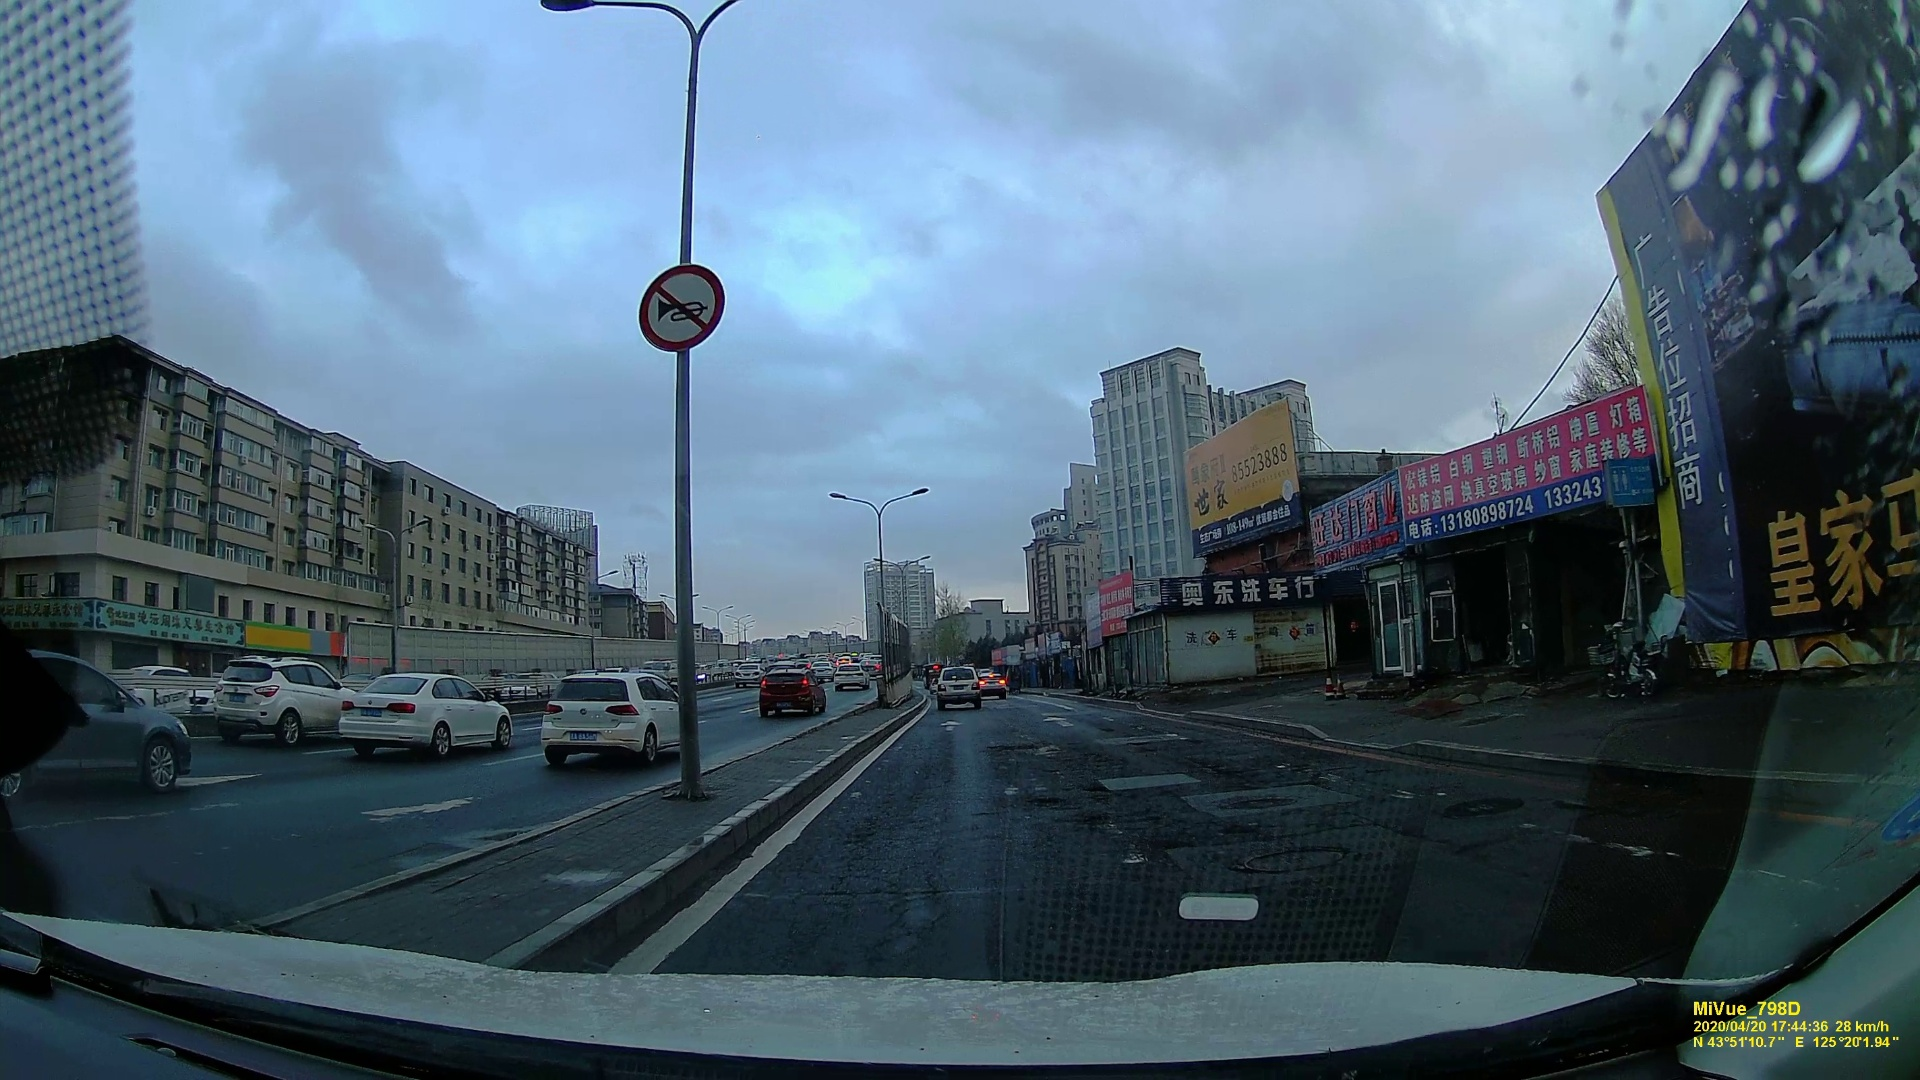traffic_sign: (632, 264, 724, 349)
vehicle: (5, 647, 187, 804), (335, 671, 509, 756), (535, 669, 682, 764), (208, 655, 342, 742), (754, 667, 825, 716), (930, 663, 988, 708)
